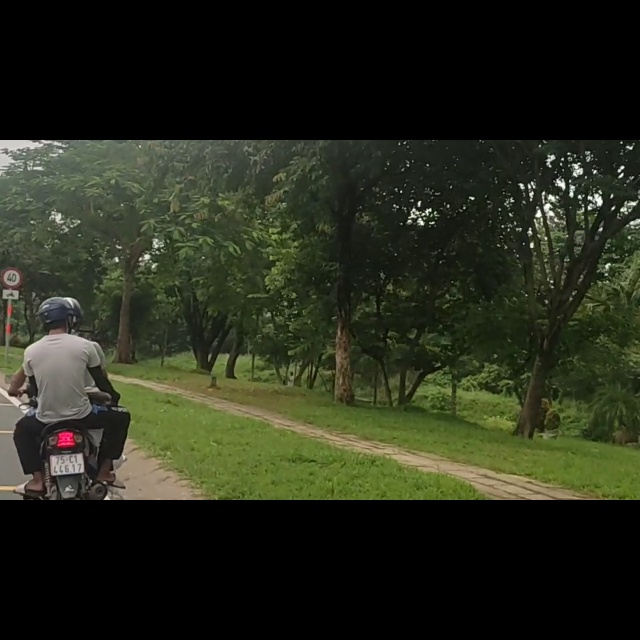Tốc độ tối đa cho phép 40km/h: (2, 267, 22, 290)
